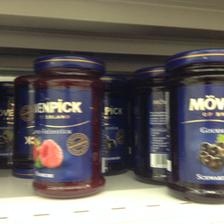Marmelade: (31, 55, 104, 198), (166, 48, 222, 204)
